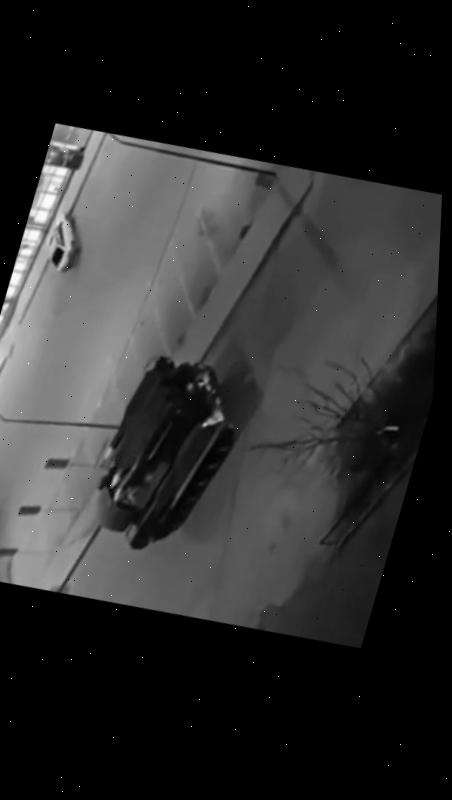car: (40, 206, 92, 276)
rszo: (74, 338, 259, 572)
